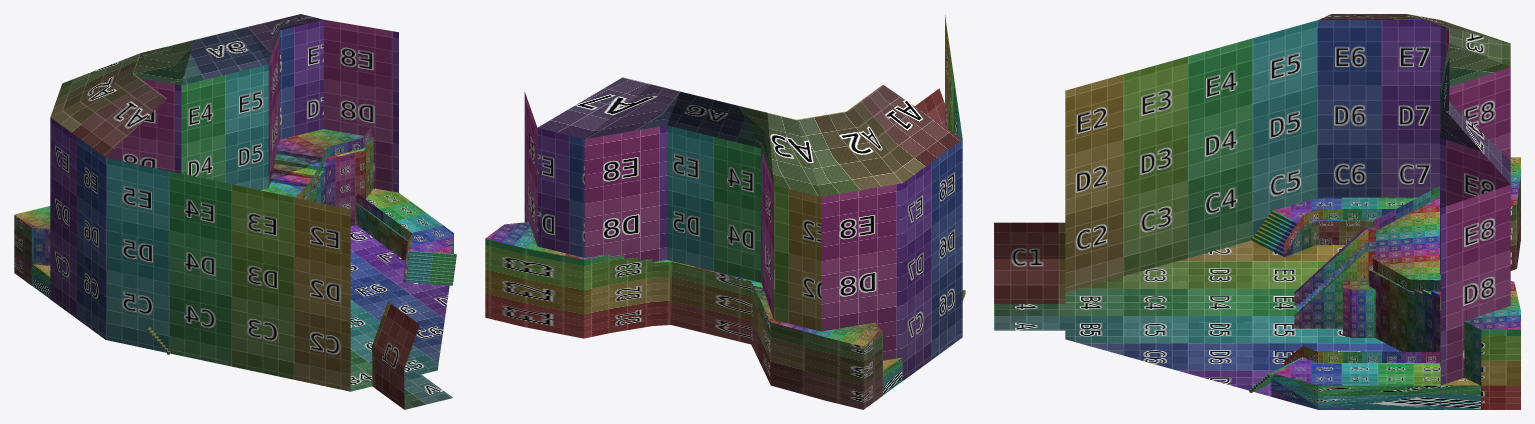
The model's file is Super Mario 64 Castle.glb.
3 renders of one model, left to right at view 1: azimuth 30°, elevation 25°; view 2: azimuth 150°, elevation 25°; view 3: azimuth 270°, elevation 25°, orthographic. The views are drawn at different scales.
Visible parts, largest first — view 1: Room abierta, Cube, Floor 1.002, Escalera.002, Plane.002, Plane.001, Floor 1.001; view 2: Room abierta, Cube, Floor 1.001; view 3: Room abierta, Cube, Floor 1.002, Escalera, Floor 1.001, Plataforma.L.001, Plane.001, Plane.003, Escalera.001, Plane.002, Plane.
Part boxes in pixels (x1,y1,x2,y2): Room abierta: (50,14,452,409); Cube: (14,129,373,285); Floor 1.002: (356,188,453,282); Escalera.002: (406,251,456,285); Plane.002: (295,127,371,199); Plane.001: (357,193,412,277); Floor 1.001: (32,264,50,298); Room abierta: (524,15,962,380); Cube: (485,222,882,409); Floor 1.001: (883,357,902,395); Room abierta: (994,14,1510,409); Cube: (1369,157,1520,409); Floor 1.002: (1271,357,1480,409); Escalera: (1294,226,1375,328); Floor 1.001: (1274,197,1416,257); Plataforma.L.001: (1343,280,1375,337); Plane.001: (1284,346,1440,365); Plane.003: (1284,209,1395,253); Escalera.001: (1251,210,1297,255); Plane.002: (1373,259,1466,320); Plane: (1373,186,1439,230).
Bounding box in the file's own units: 25 × 15.35 × 29.57.
Materials: 1 (1 with a texture image).
